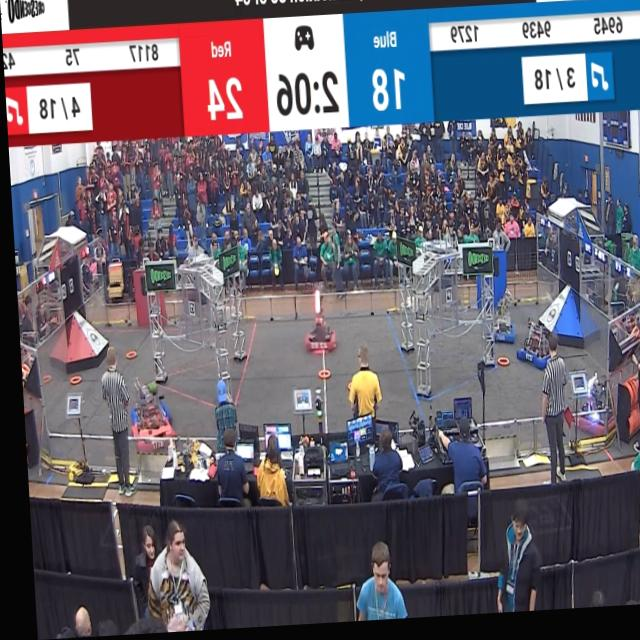Robot: (564, 371, 609, 443), (509, 314, 550, 380), (131, 385, 166, 454), (298, 307, 334, 363), (125, 382, 165, 427), (484, 305, 511, 354)
